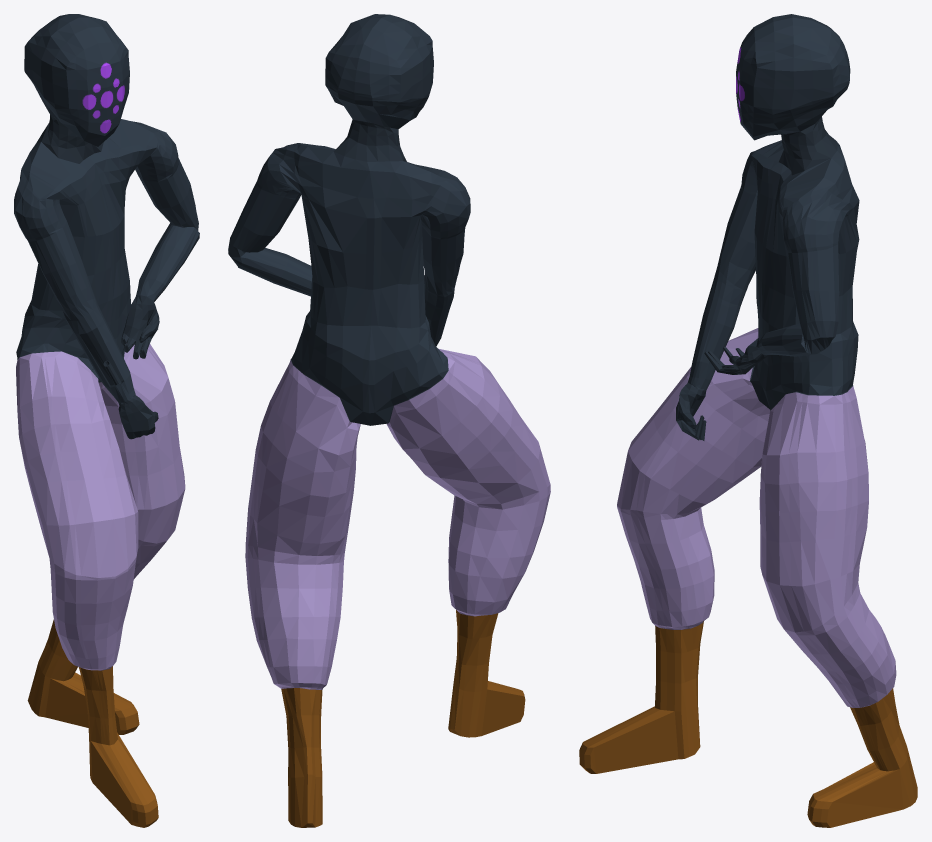
Rendered from Oracle_WF_000009.obj.
The picture shows the model from 3 angles, left to right: view 1: azimuth 30°, elevation 25°; view 2: azimuth 150°, elevation 25°; view 3: azimuth 270°, elevation 25°; orthographic projection. The views are drawn at different scales.
Visible parts, largest first — view 1: Cube; view 2: Cube; view 3: Cube.
Boxes of the visible parts, left/top/right/bottom form: Cube: left=14, top=14, right=199, bottom=827; Cube: left=228, top=14, right=550, bottom=827; Cube: left=579, top=14, right=917, bottom=827.
Size of the model in its own units: 1.2 by 3.8 by 1.5.
